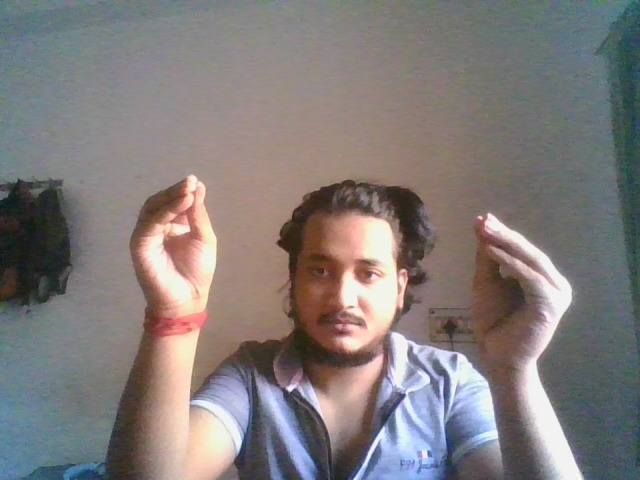Mouth: (468, 211, 572, 369), (129, 173, 218, 308)
